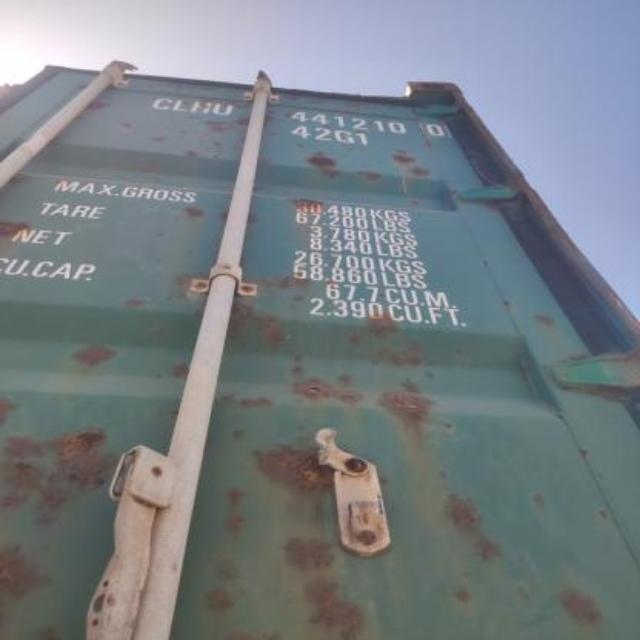0: (424, 122, 446, 138), (387, 122, 408, 134)
1: (372, 120, 388, 132), (334, 116, 348, 128)
2: (350, 118, 370, 130)
4: (290, 108, 308, 124), (308, 112, 329, 125)
C: (154, 96, 172, 112)
H: (191, 100, 211, 116)
L: (172, 97, 188, 113)
U: (213, 102, 233, 115)
